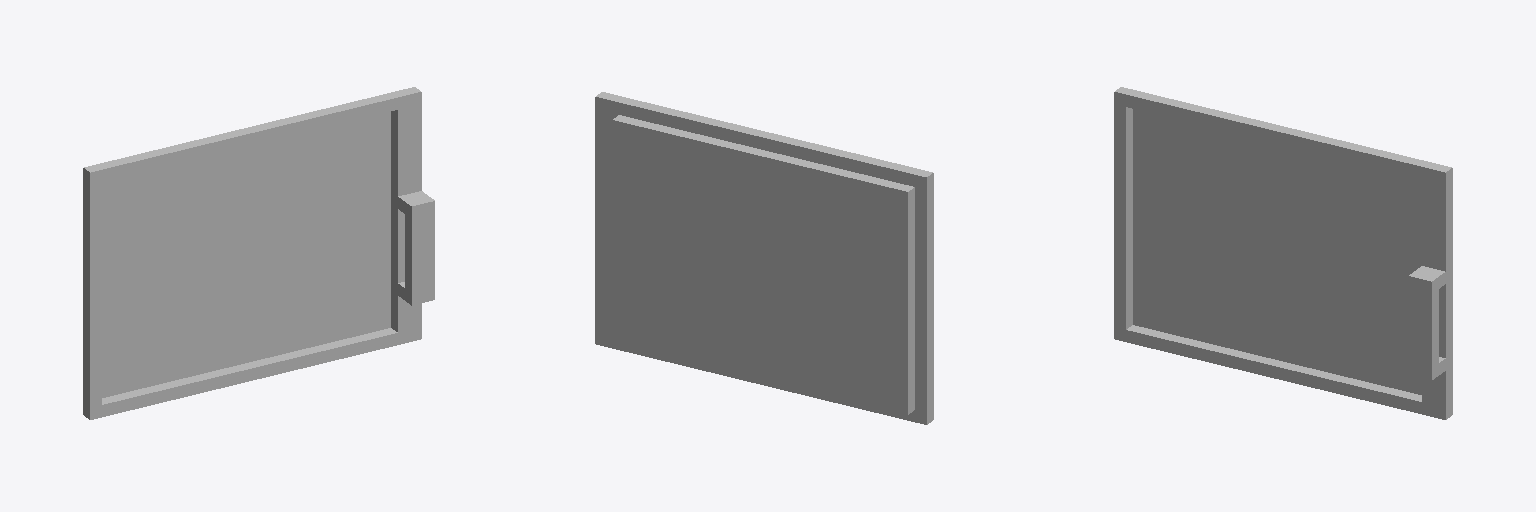
File: KitchenOPEN_Export-19.obj
3 renders of one model, left to right at view 1: azimuth 30°, elevation 25°; view 2: azimuth 150°, elevation 25°; view 3: azimuth 330°, elevation 25°, orthographic.
Parts seen in each view (by area): view 1: KitchenOPEN_Export-19; view 2: KitchenOPEN_Export-19; view 3: KitchenOPEN_Export-19.
Boxes of the visible parts, x1=… form: KitchenOPEN_Export-19: x1=83, y1=87, x2=434, y2=419; KitchenOPEN_Export-19: x1=595, y1=92, x2=933, y2=424; KitchenOPEN_Export-19: x1=1114, y1=87, x2=1452, y2=419.
Size of the model in its own units: 28 by 20 by 4.